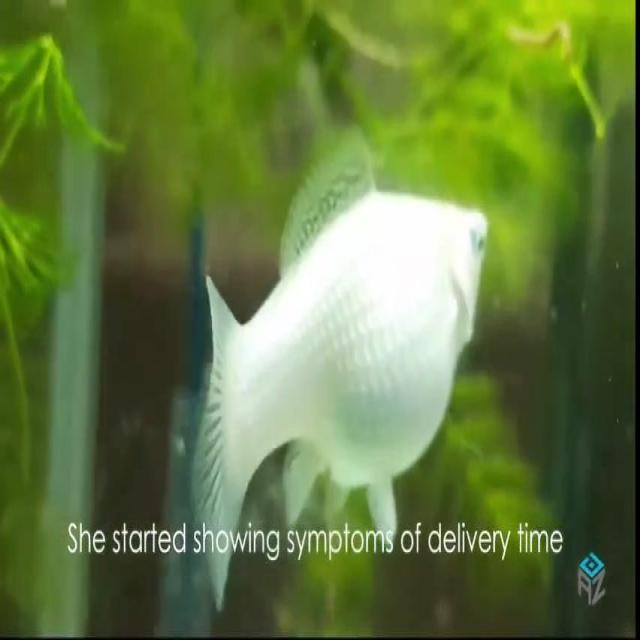PlatyFish: (166, 105, 506, 640)
